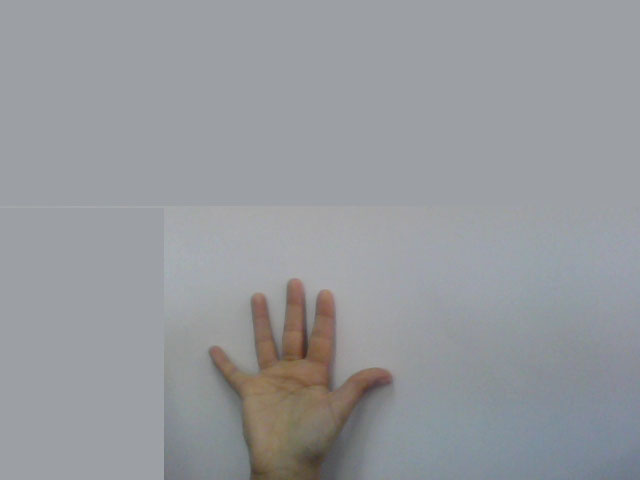hand: (202, 270, 399, 462)
